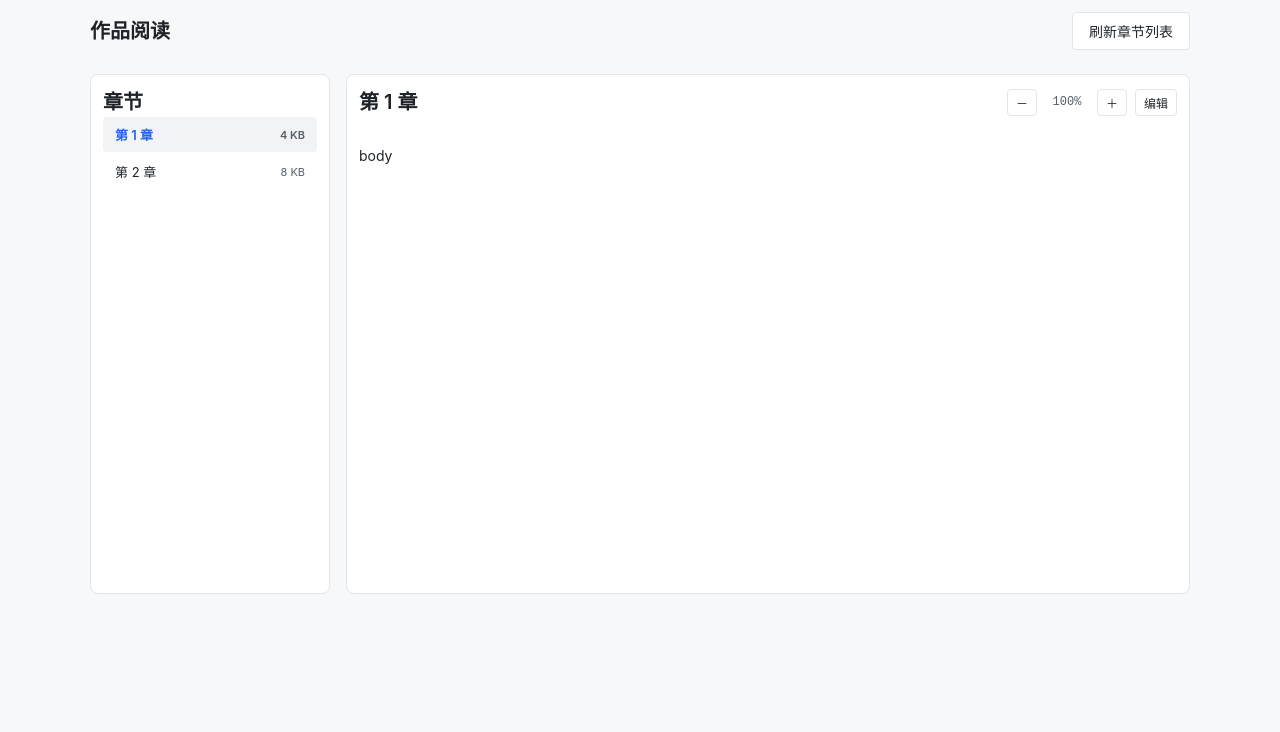
Test: NovelView rendering › zoom in button increases the displayed zoom percent
Expected: the text "100%" is shown, [1053,95,1081,109]
Step 1. Click the button titled "放大" → point(1112, 102), box [1097,88,1127,116]
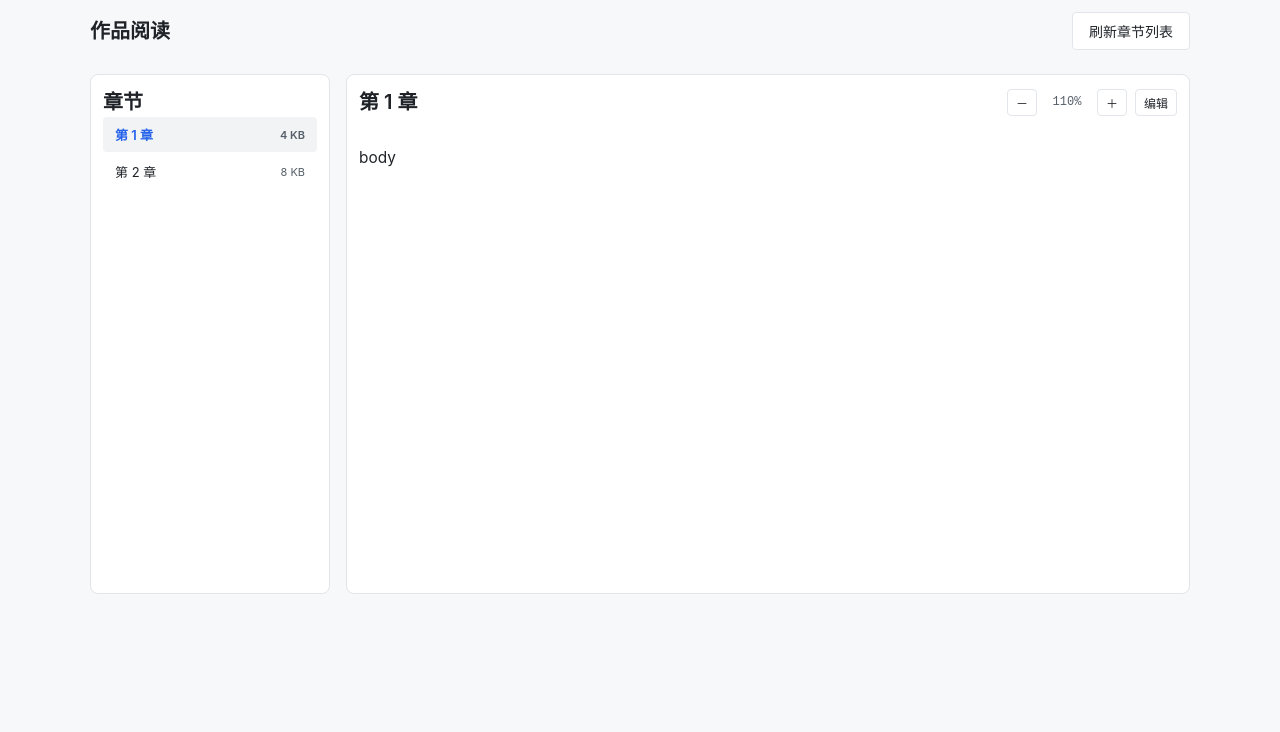
Result: the text "110%" is shown at [1053,95,1081,109]
